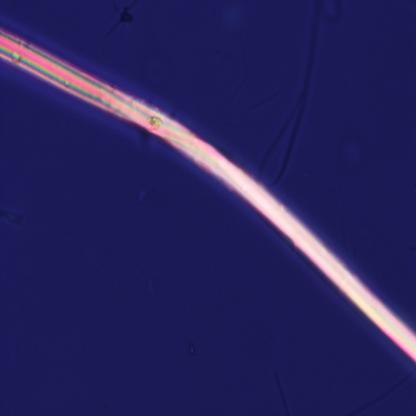Microfibre: (0, 19, 416, 365)
